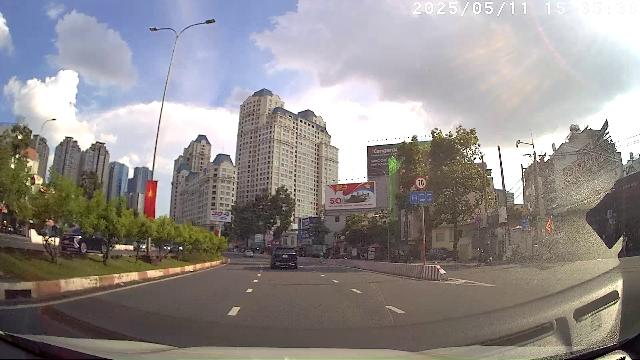127-toc-do-toi-da-70: (414, 176, 428, 190)
